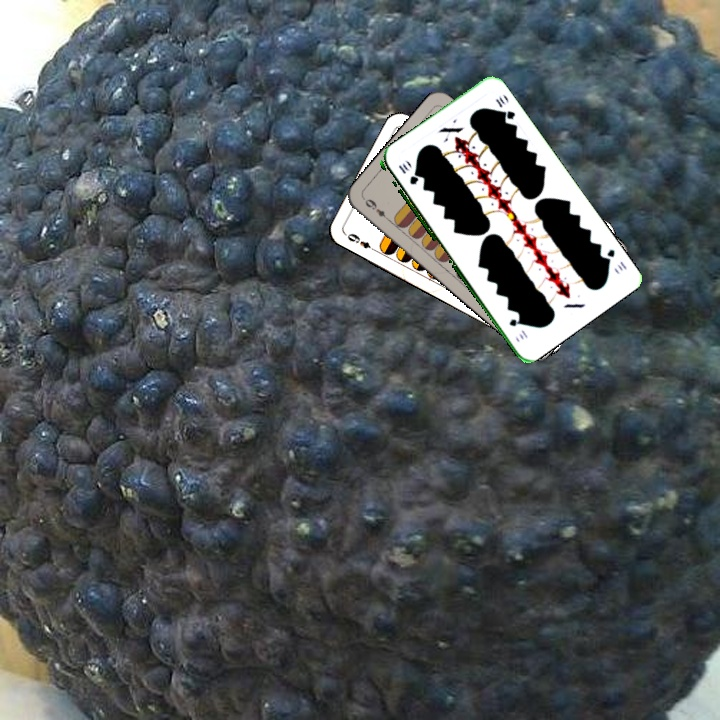E9: (361, 195, 394, 225), (342, 229, 379, 254)
G10: (599, 245, 629, 273), (394, 159, 420, 187)
